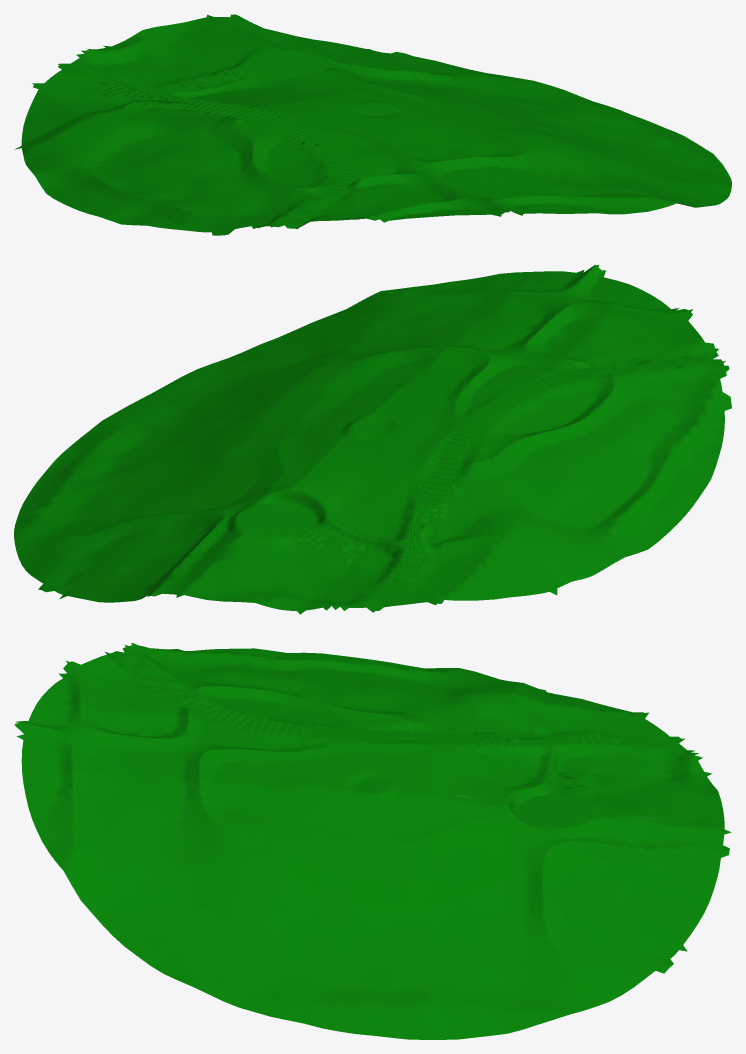
The model's file is near.glb.
3 renders of one model, top to bottom at view 1: azimuth 30°, elevation 25°; view 2: azimuth 150°, elevation 25°; view 3: azimuth 270°, elevation 25°, orthographic.
Visible parts, largest first — view 1: near; view 2: near; view 3: near.
Part boxes in pixels (left/top/right/bottom): near: left=14, top=14, right=731, bottom=235; near: left=14, top=264, right=731, bottom=614; near: left=14, top=643, right=731, bottom=1039.
Size of the model in its own units: 154 by 37.34 by 157.
